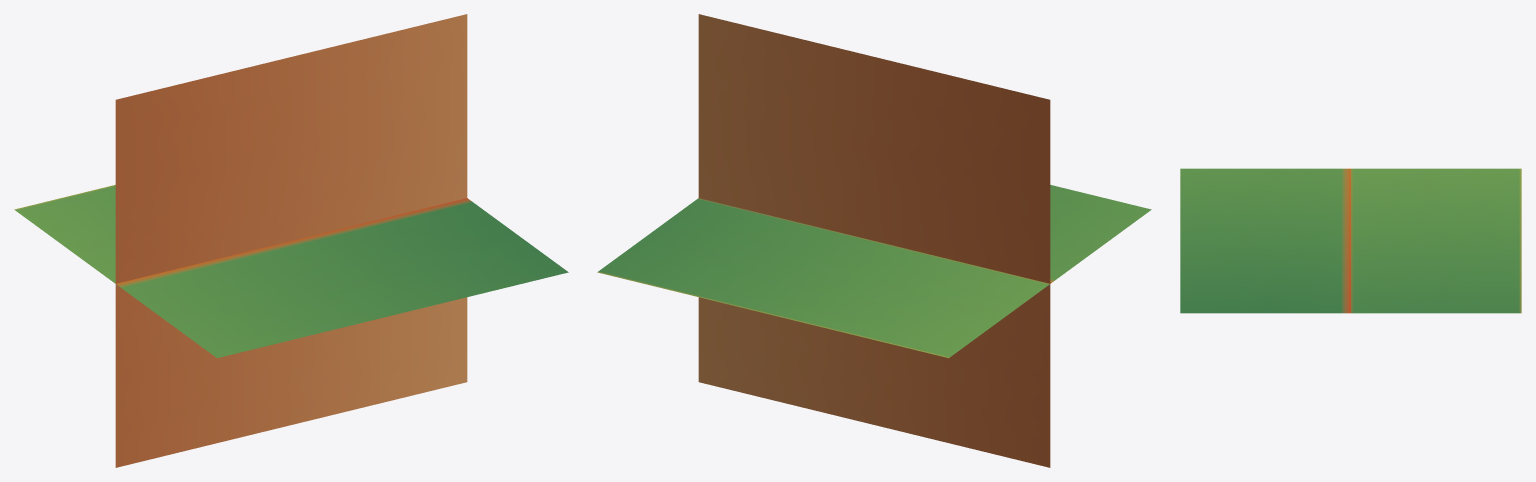
3 views of the same model, side by side, from view 1: azimuth 30°, elevation 25°; view 2: azimuth 150°, elevation 25°; view 3: azimuth 270°, elevation 25° (orthographic). The views are drawn at different scales.
Visible parts, largest first — view 1: 00111100; view 2: 00111100; view 3: 00111100.
Boxes of the visible parts, bbox=[...] form: 00111100: bbox=[14, 14, 568, 467]; 00111100: bbox=[597, 14, 1151, 467]; 00111100: bbox=[1180, 168, 1521, 313].
Bounding box in the file's own units: 1 × 1 × 1.
Materials: 1 (1 with a texture image).
